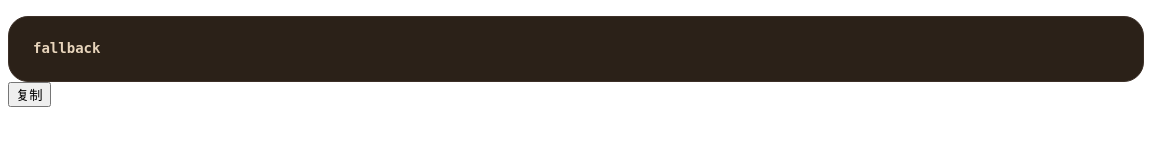
Scenario: CodeBlock › 兼容复制方案抛错时仍清理临时元素
Step 1. Click the button with aria-label "复制代码" → coordinates (29, 94), box [8,82,51,107]
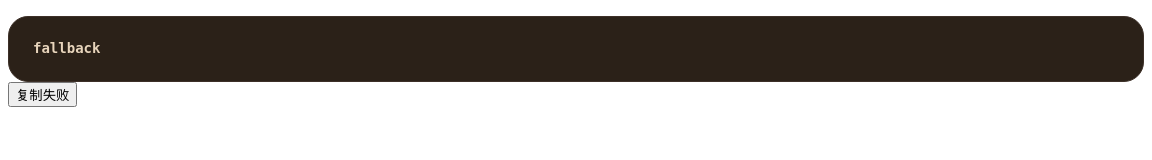
Check: the button with aria-label "代码复制失败" is shown, box [8,82,77,107]
